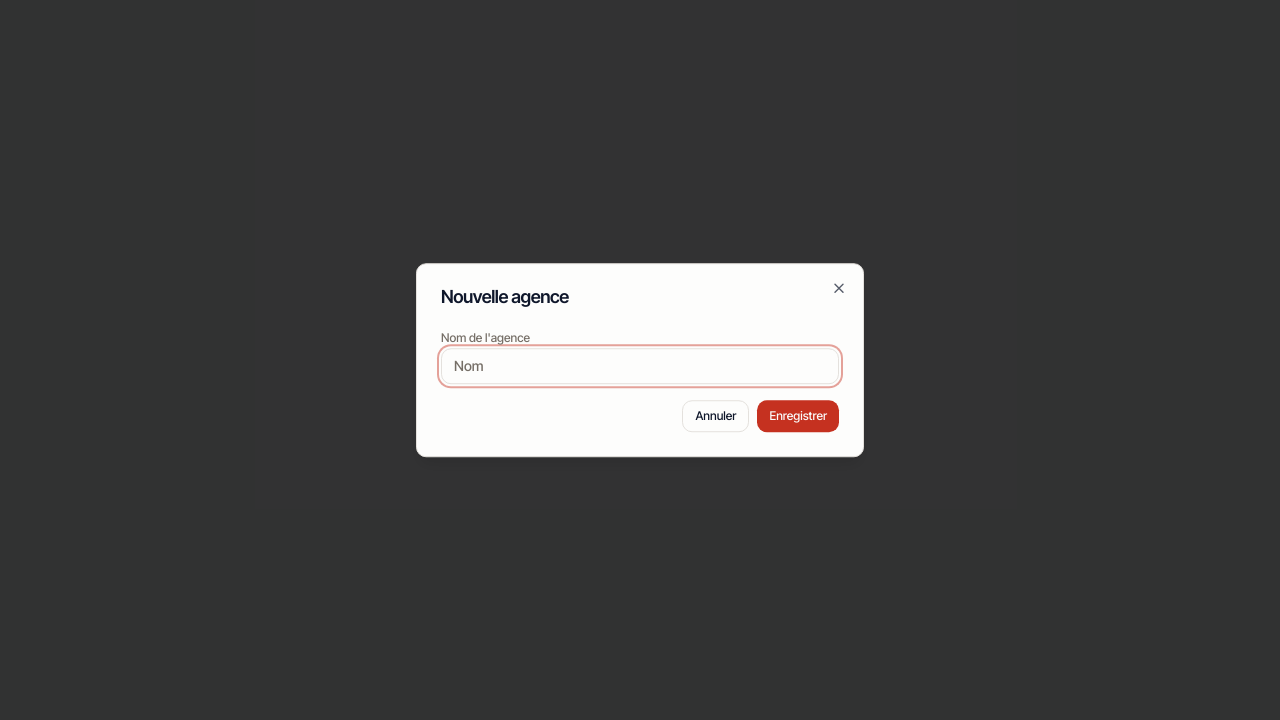
Test: AgencyFormDialog › blocks submit when agency name is empty
Click the button "Enregistrer" at (798, 416), box [758,400,839,432]
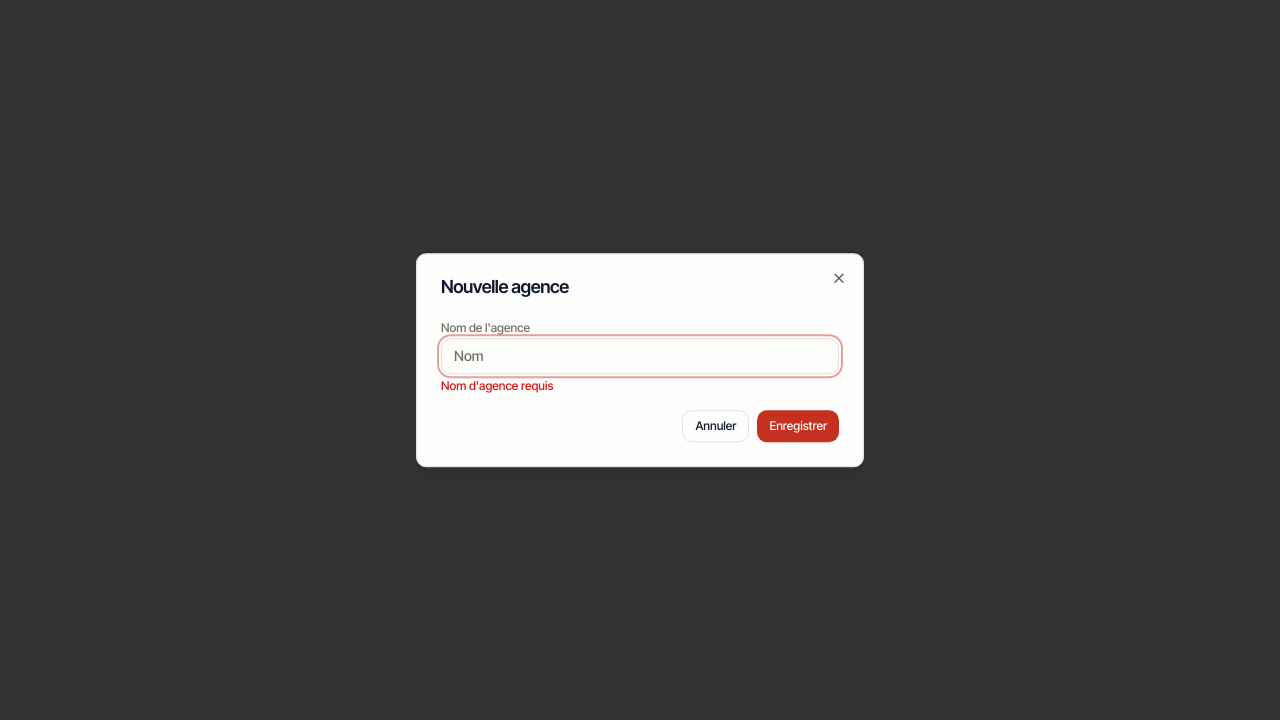
Now the text "Nom d'agence requis" is shown, box [441,378,553,393]
